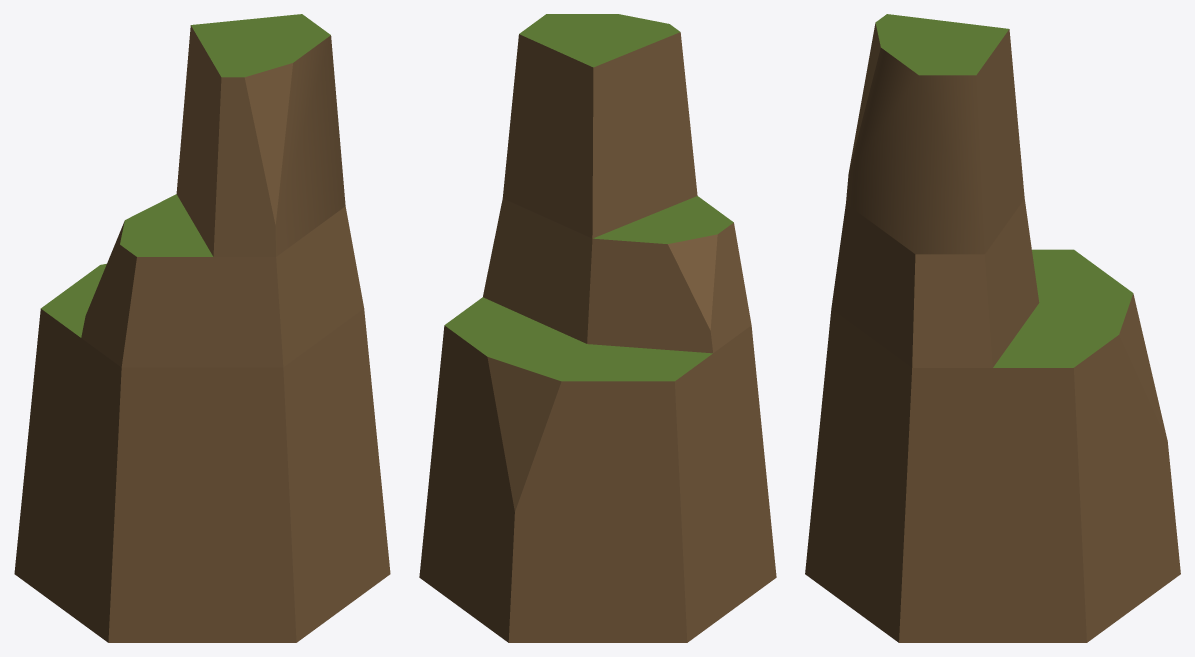
Rendered from rock_tall_g.glb.
3 views of the same model, side by side, from view 1: azimuth 30°, elevation 25°; view 2: azimuth 150°, elevation 25°; view 3: azimuth 270°, elevation 25° (orthographic). The views are drawn at different scales.
Parts seen in each view (by area): view 1: rock_tall_g; view 2: rock_tall_g; view 3: rock_tall_g.
Part boxes in pixels (box(x1,y1,x2,y2)): rock_tall_g: box(14, 14, 390, 642); rock_tall_g: box(419, 14, 776, 642); rock_tall_g: box(805, 14, 1180, 642).
Bounding box in the file's own units: 1.27 × 2.35 × 1.47.
Materials: 1 (1 with a texture image).
